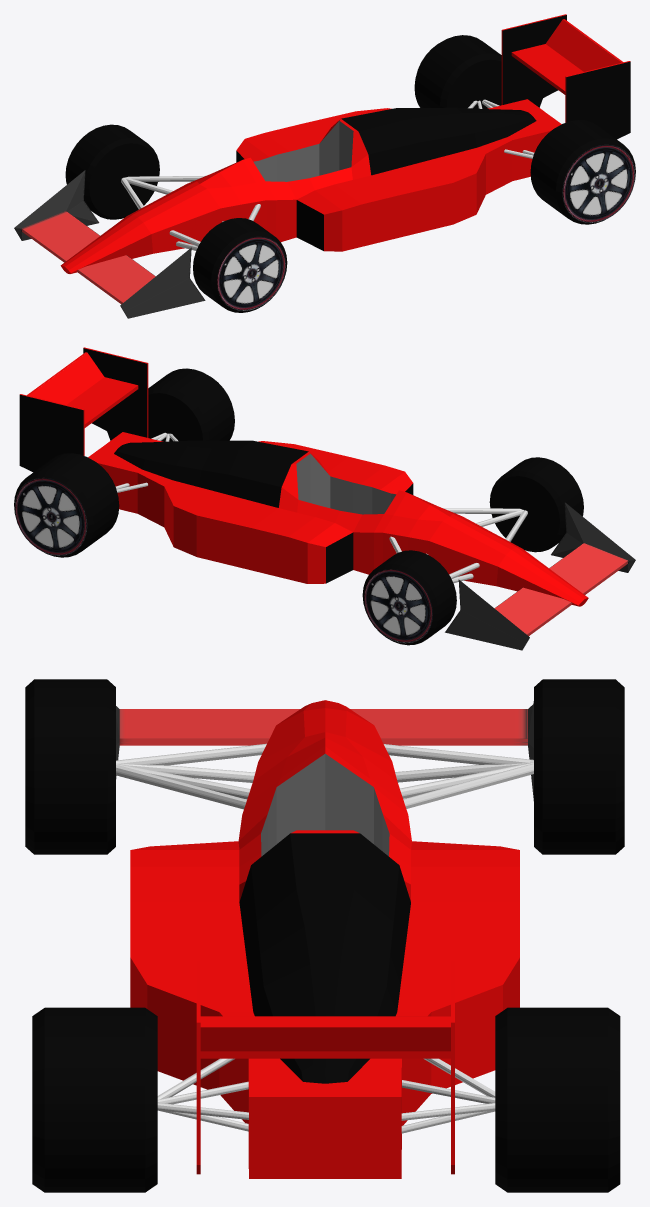
The model's file is Car.fbx.
3 views of the same model, one above another, from view 1: azimuth 30°, elevation 25°; view 2: azimuth 150°, elevation 25°; view 3: azimuth 270°, elevation 25° (orthographic). The views are drawn at different scales.
Parts seen in each view (by area): view 1: Body, Cube, Cube.001, Cylinder.001, Cylinder.002, Cylinder.003, Cylinder.000, Cylinder.004; view 2: Body, Cube, Cube.001, Cylinder.000, Cylinder.003, Cylinder.002, Cylinder.001, Cylinder.004; view 3: Body, Cylinder.000, Cylinder.001, Cylinder.003, Cylinder.002, Cube, Cube.001, Cylinder.004, Cylinder.005.
Boxes of the visible parts, x1,y1,x2,y2 form: Body: (60,99,561,273); Cube: (501,14,630,139); Cube.001: (14,170,205,318); Cylinder.001: (530,120,635,224); Cylinder.002: (193,218,287,312); Cylinder.003: (65,124,159,219); Cylinder.000: (414,35,501,108); Cylinder.004: (121,175,260,250); Body: (88,432,588,606); Cube: (19,347,148,472); Cube.001: (445,502,635,650); Cylinder.000: (14,453,119,557); Cylinder.003: (362,550,456,645); Cylinder.002: (489,457,583,552); Cylinder.001: (148,368,234,441); Cylinder.004: (389,508,527,583); Body: (130,700,519,1178); Cylinder.000: (495,1007,620,1192); Cylinder.001: (32,1007,157,1192); Cylinder.003: (534,679,624,854); Cylinder.002: (25,679,115,854); Cube: (196,960,454,1174); Cube.001: (116,701,533,800); Cylinder.004: (116,743,533,809); Cylinder.005: (157,1058,495,1133).
Size of the model in its own units: 973 by 205 by 474.
